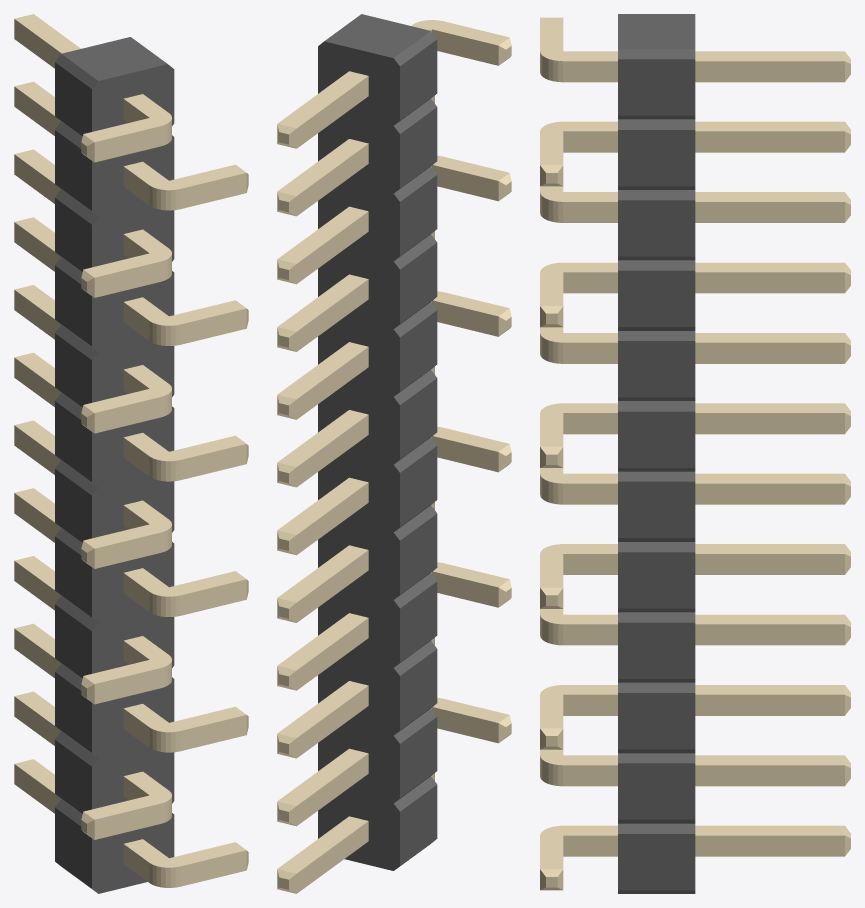
File: PinHeader_1x12_P1.00mm_Vertical_SMD_Pin1Right.glb
3 renders of one model, left to right at view 1: azimuth 30°, elevation 25°; view 2: azimuth 150°, elevation 25°; view 3: azimuth 270°, elevation 25°, orthographic. The views are drawn at different scales.
Visible parts, largest first — view 1: Shape_IndexedFaceSet.003, Shape_IndexedFaceSet.001, Shape_IndexedFaceSet.037, Shape_IndexedFaceSet.013, Shape_IndexedFaceSet.061, Shape_IndexedFaceSet.073, Shape_IndexedFaceSet.025, Shape_IndexedFaceSet.049, Shape_IndexedFaceSet.007, Shape_IndexedFaceSet.043, Shape_IndexedFaceSet.055, Shape_IndexedFaceSet.019 (+68 smaller); view 2: Shape_IndexedFaceSet.004, Shape_IndexedFaceSet.001, Shape_IndexedFaceSet.007, Shape_IndexedFaceSet.013, Shape_IndexedFaceSet.025, Shape_IndexedFaceSet.031, Shape_IndexedFaceSet.037, Shape_IndexedFaceSet.043, Shape_IndexedFaceSet.049, Shape_IndexedFaceSet.055, Shape_IndexedFaceSet.073, Shape_IndexedFaceSet.019 (+50 smaller); view 3: Shape_IndexedFaceSet.002, Shape_IndexedFaceSet.016, Shape_IndexedFaceSet.046, Shape_IndexedFaceSet.064, Shape_IndexedFaceSet.010, Shape_IndexedFaceSet.022, Shape_IndexedFaceSet.028, Shape_IndexedFaceSet.034, Shape_IndexedFaceSet.040, Shape_IndexedFaceSet.052, Shape_IndexedFaceSet.058, Shape_IndexedFaceSet.070 (+61 smaller).
Boxes of the visible parts, box(x1,y1,x2,y2) form: Shape_IndexedFaceSet.003: box(92, 64, 174, 893); Shape_IndexedFaceSet.001: box(61, 37, 167, 80); Shape_IndexedFaceSet.037: box(55, 401, 91, 481); Shape_IndexedFaceSet.013: box(55, 130, 91, 210); Shape_IndexedFaceSet.061: box(55, 672, 91, 752); Shape_IndexedFaceSet.073: box(55, 807, 91, 888); Shape_IndexedFaceSet.025: box(55, 265, 91, 346); Shape_IndexedFaceSet.049: box(55, 536, 91, 617); Shape_IndexedFaceSet.007: box(55, 62, 91, 136); Shape_IndexedFaceSet.043: box(55, 469, 91, 542); Shape_IndexedFaceSet.055: box(55, 604, 91, 678); Shape_IndexedFaceSet.019: box(55, 198, 91, 271); Shape_IndexedFaceSet.004: box(318, 41, 399, 870); Shape_IndexedFaceSet.001: box(324, 14, 430, 57); Shape_IndexedFaceSet.007: box(400, 39, 437, 120); Shape_IndexedFaceSet.013: box(400, 107, 437, 188); Shape_IndexedFaceSet.025: box(400, 243, 437, 323); Shape_IndexedFaceSet.031: box(400, 310, 437, 391); Shape_IndexedFaceSet.037: box(400, 378, 437, 459); Shape_IndexedFaceSet.043: box(400, 446, 437, 526); Shape_IndexedFaceSet.049: box(400, 514, 437, 594); Shape_IndexedFaceSet.055: box(400, 581, 437, 662); Shape_IndexedFaceSet.073: box(400, 785, 437, 865); Shape_IndexedFaceSet.019: box(400, 175, 437, 255); Shape_IndexedFaceSet.002: box(618, 59, 695, 115); Shape_IndexedFaceSet.016: box(618, 200, 695, 256); Shape_IndexedFaceSet.046: box(618, 552, 695, 608); Shape_IndexedFaceSet.064: box(618, 763, 695, 819); Shape_IndexedFaceSet.010: box(618, 130, 695, 186); Shape_IndexedFaceSet.022: box(618, 270, 695, 326); Shape_IndexedFaceSet.028: box(618, 341, 695, 397); Shape_IndexedFaceSet.034: box(618, 411, 695, 467); Shape_IndexedFaceSet.040: box(618, 481, 695, 537); Shape_IndexedFaceSet.052: box(618, 622, 695, 678); Shape_IndexedFaceSet.058: box(618, 693, 695, 749); Shape_IndexedFaceSet.070: box(618, 834, 695, 890).
Size of the model in its own units: 0.984 by 4.72 by 1.58.
